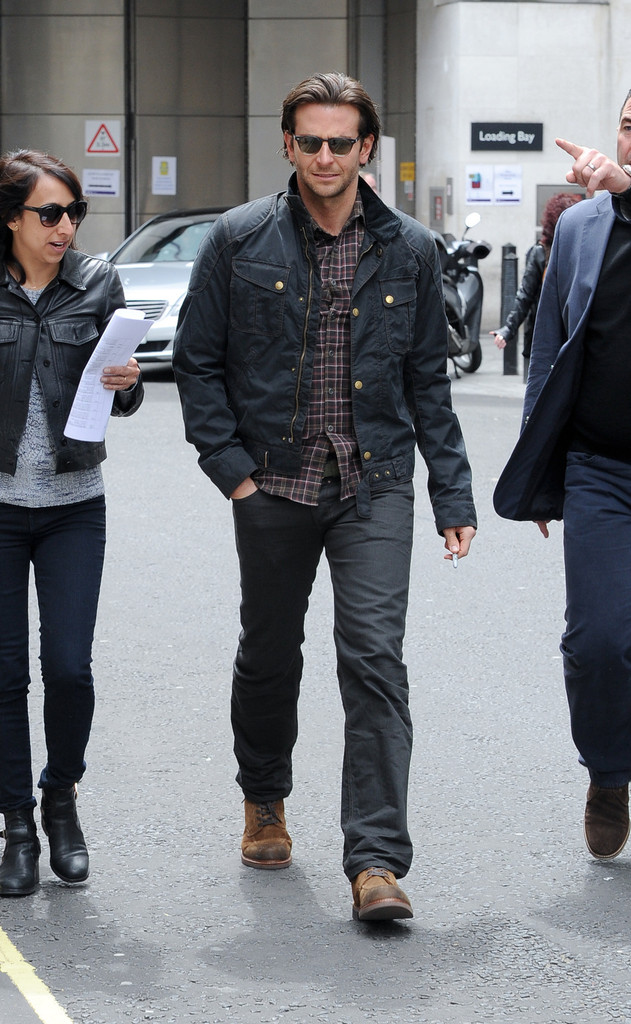Person: (171, 69, 481, 928), (1, 148, 151, 901)
